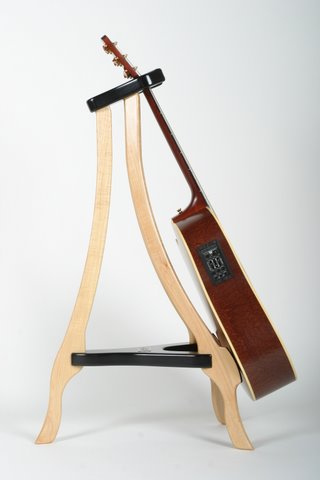guitar: (100, 32, 300, 404)
